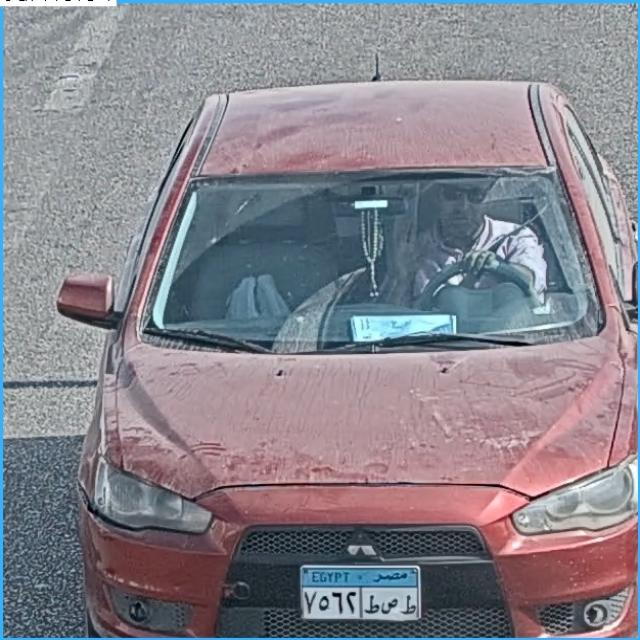windshield: (154, 180, 593, 337)
